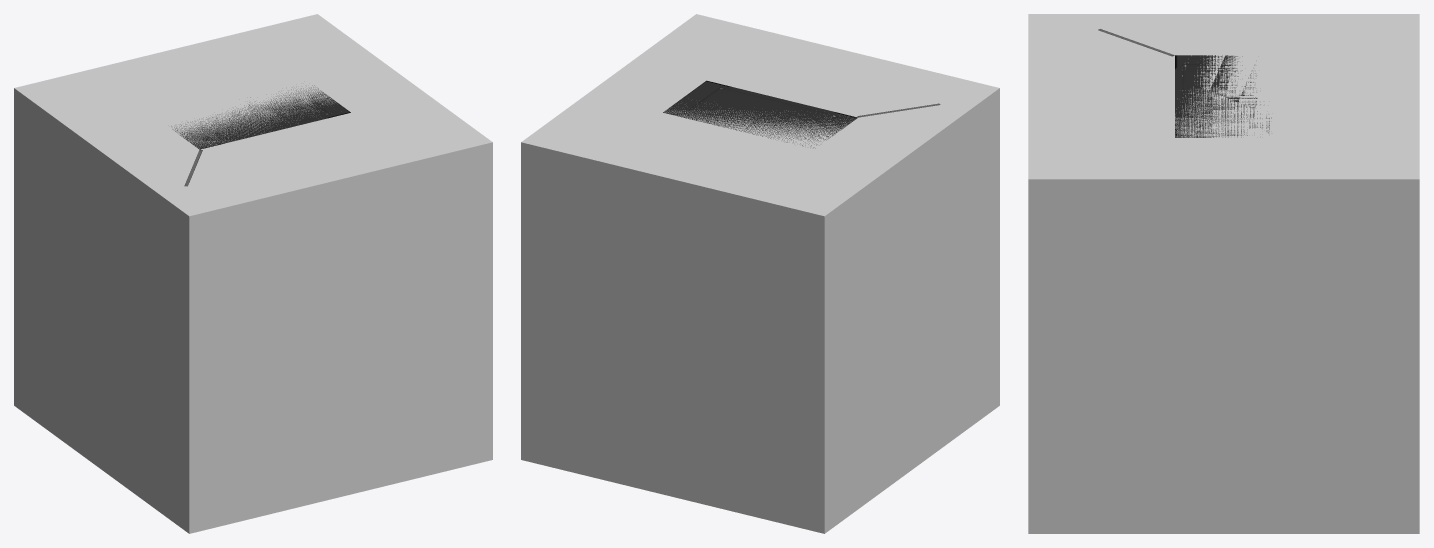
File: CLOSE.fbx
3 renders of one model, left to right at view 1: azimuth 30°, elevation 25°; view 2: azimuth 150°, elevation 25°; view 3: azimuth 270°, elevation 25°, orthographic. The views are drawn at different scales.
Parts seen in each view (by area): view 1: Cube, 立方体; view 2: Cube, 立方体; view 3: Cube, 立方体.
Boxes of the visible parts, x1,y1,x2,y2 form: Cube: (14, 14, 492, 533); 立方体: (171, 85, 350, 149); Cube: (521, 14, 999, 533); 立方体: (663, 80, 857, 148); Cube: (1028, 14, 1419, 533); 立方体: (1175, 55, 1271, 137).
Bounding box in the file's own units: 200 × 200 × 200.
